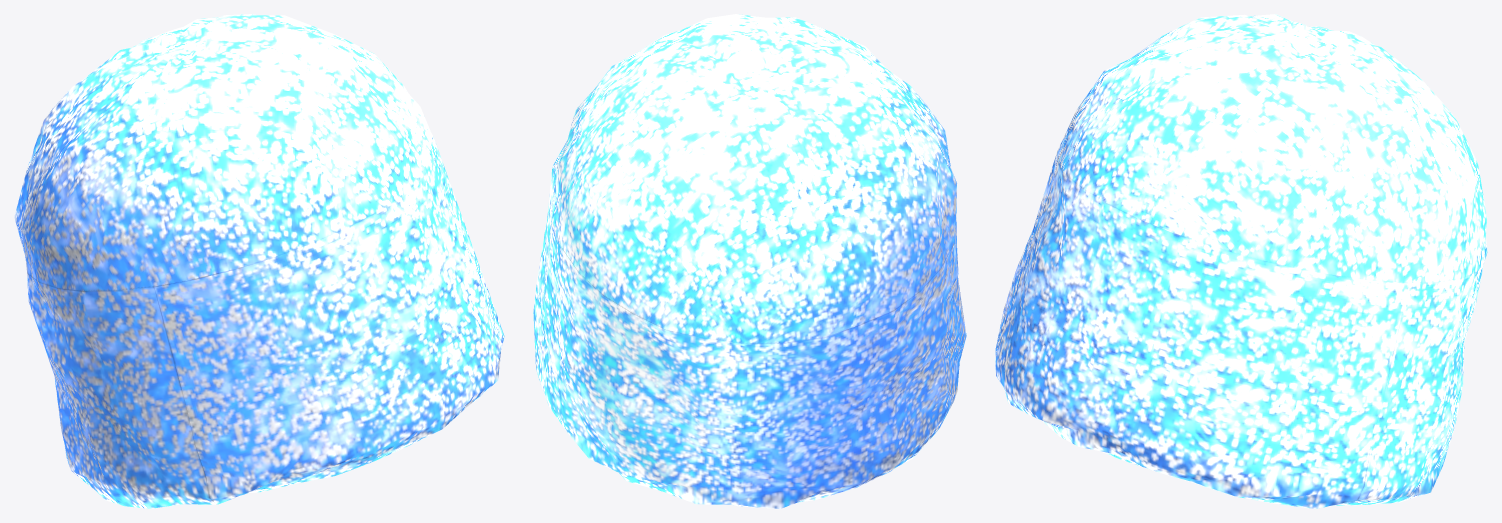
File: gumdrop-4.glb
3 views of the same model, side by side, from view 1: azimuth 30°, elevation 25°; view 2: azimuth 150°, elevation 25°; view 3: azimuth 270°, elevation 25° (orthographic). The views are drawn at different scales.
Parts seen in each view (by area): view 1: jujuba.adesivolowpoly.003; view 2: jujuba.adesivolowpoly.003; view 3: jujuba.adesivolowpoly.003.
Part boxes in pixels (<box>): jujuba.adesivolowpoly.003: <box>14,14,504,508</box>; jujuba.adesivolowpoly.003: <box>533,14,966,508</box>; jujuba.adesivolowpoly.003: <box>995,14,1487,508</box>.
Bounding box in the file's own units: 1.75 × 1.75 × 1.77.
Materials: 1 (1 with a texture image).
